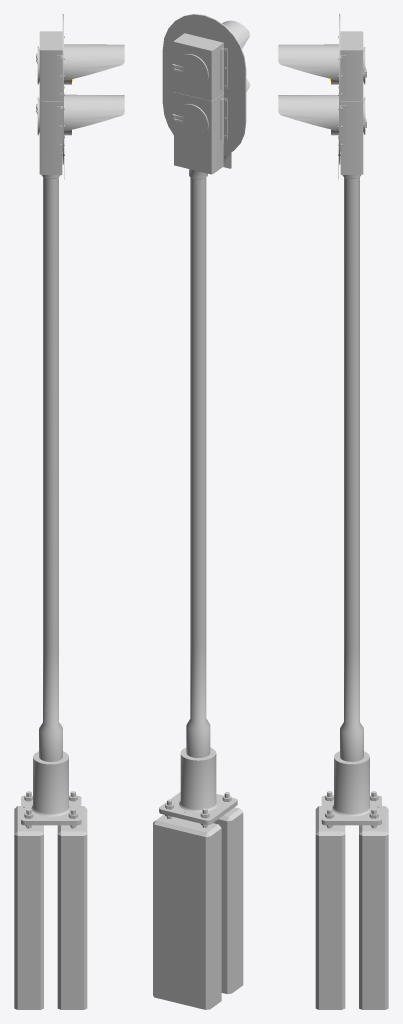
The model's file is ShuntingSignalBig.fbx.
3 views of the same model, side by side, from view 1: azimuth 90°, elevation 25°; view 2: azimuth 150°, elevation 25°; view 3: azimuth 270°, elevation 25° (orthographic).
Visible parts, largest first — view 1: PL2AspectDistant; view 2: PL2AspectDistant; view 3: PL2AspectDistant.
Part boxes in pixels (x1,y1,x2,y2): PL2AspectDistant: (14,14,124,1009); PL2AspectDistant: (153,14,249,1009); PL2AspectDistant: (278,14,388,1009).
Bounding box in the file's own units: 60 × 674 × 69.09.
